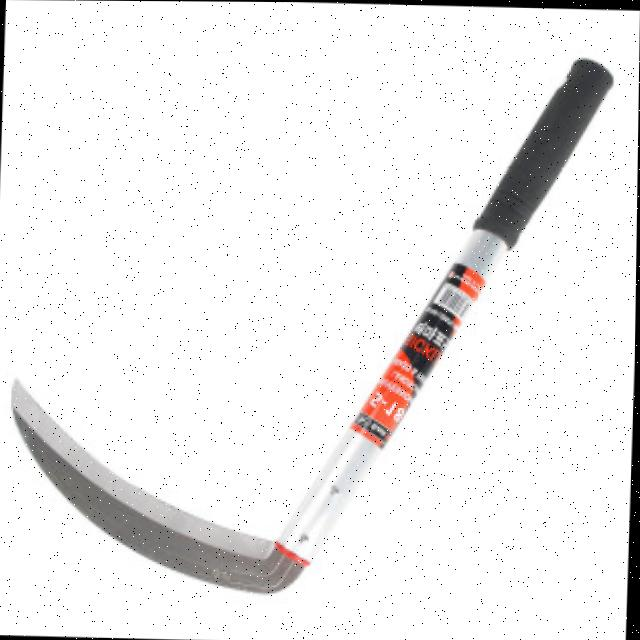sickle: (4, 6, 625, 613)
